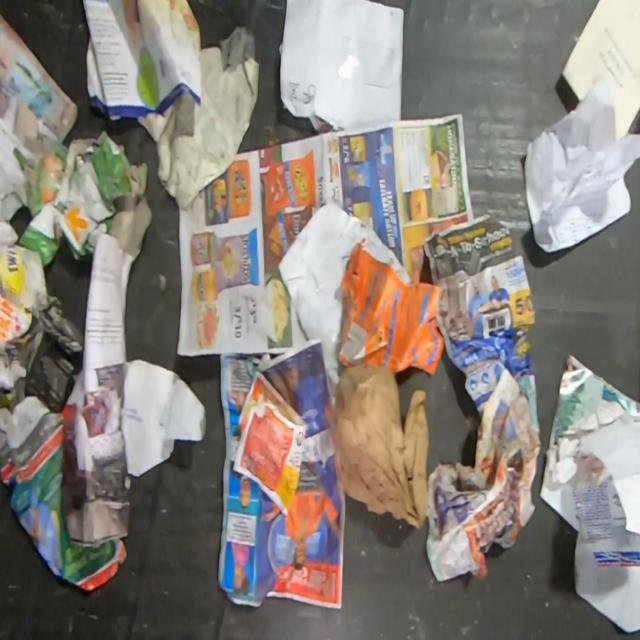metal: (74, 140, 100, 170)
